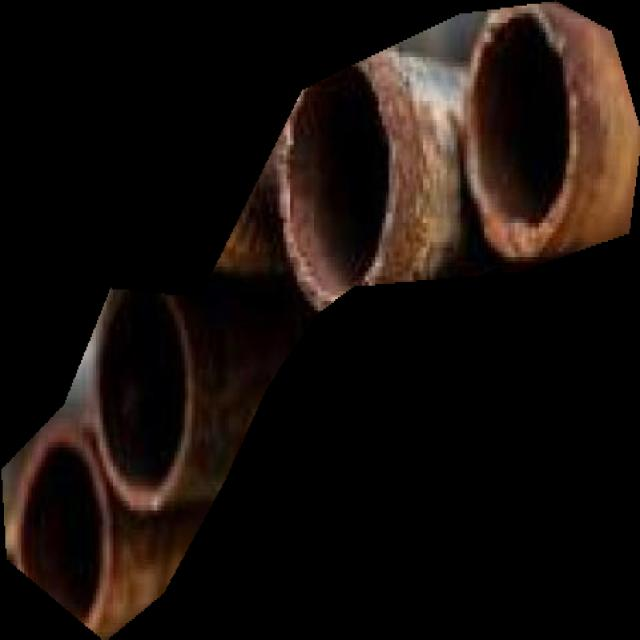Uniform Corrosion: (1, 1, 640, 640)
